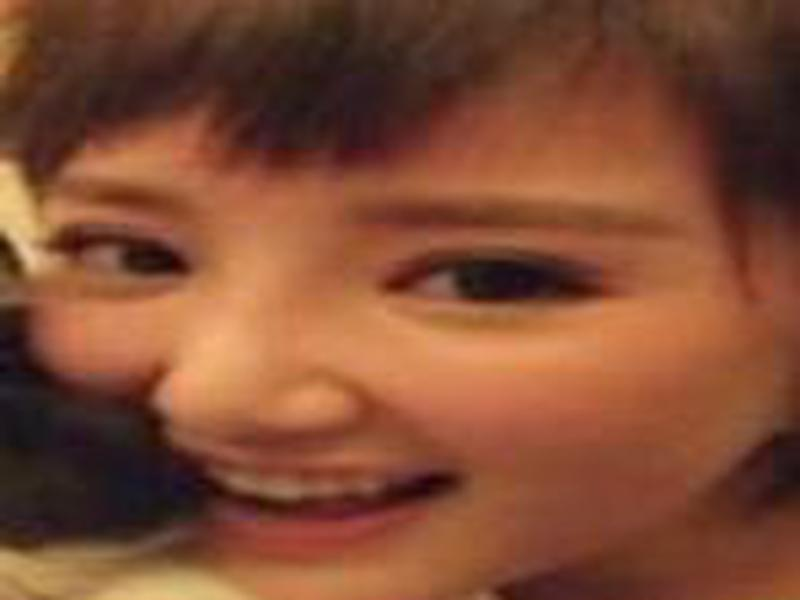without_mask: (30, 116, 750, 592)
